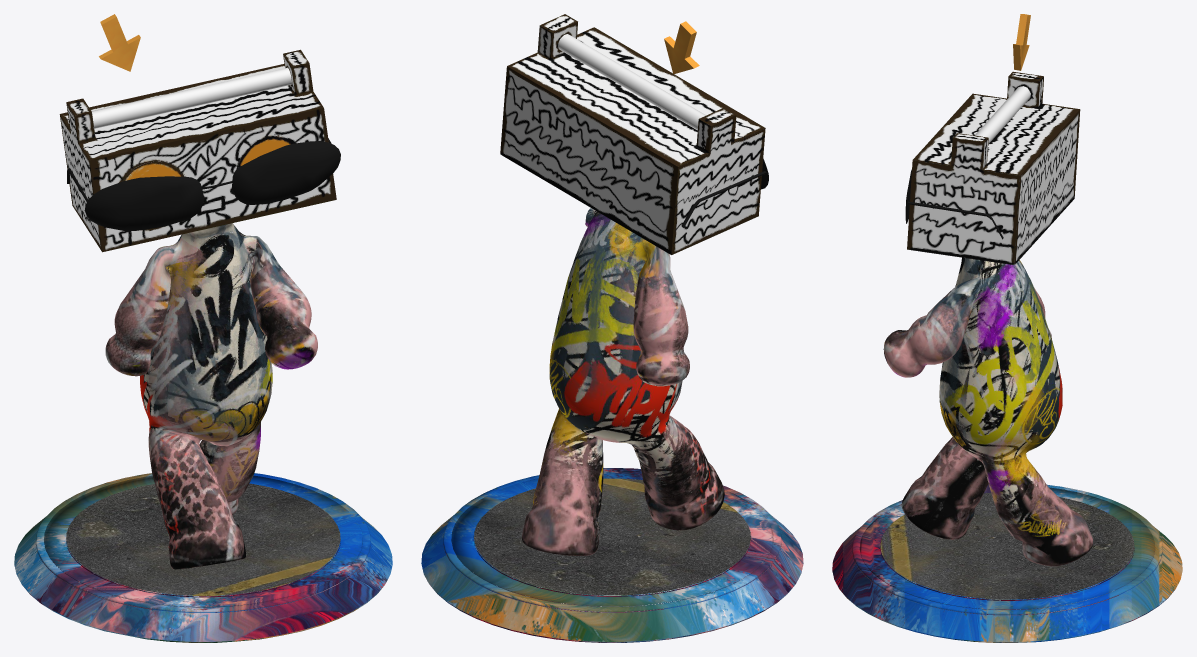
The picture shows the model from 3 angles, left to right: view 1: azimuth 30°, elevation 25°; view 2: azimuth 150°, elevation 25°; view 3: azimuth 270°, elevation 25°; orthographic projection. The views are drawn at different scales.
Parts seen in each view (by area): view 1: BBody; view 2: BBody; view 3: BBody.
Boxes of the visible parts, x1,y1,x2,y2 form: BBody: (14, 14, 392, 642); BBody: (421, 14, 803, 642); BBody: (832, 14, 1182, 642).
Bounding box in the file's own units: 1.45 × 2.37 × 1.45.
Materials: 6 (5 with a texture image).
